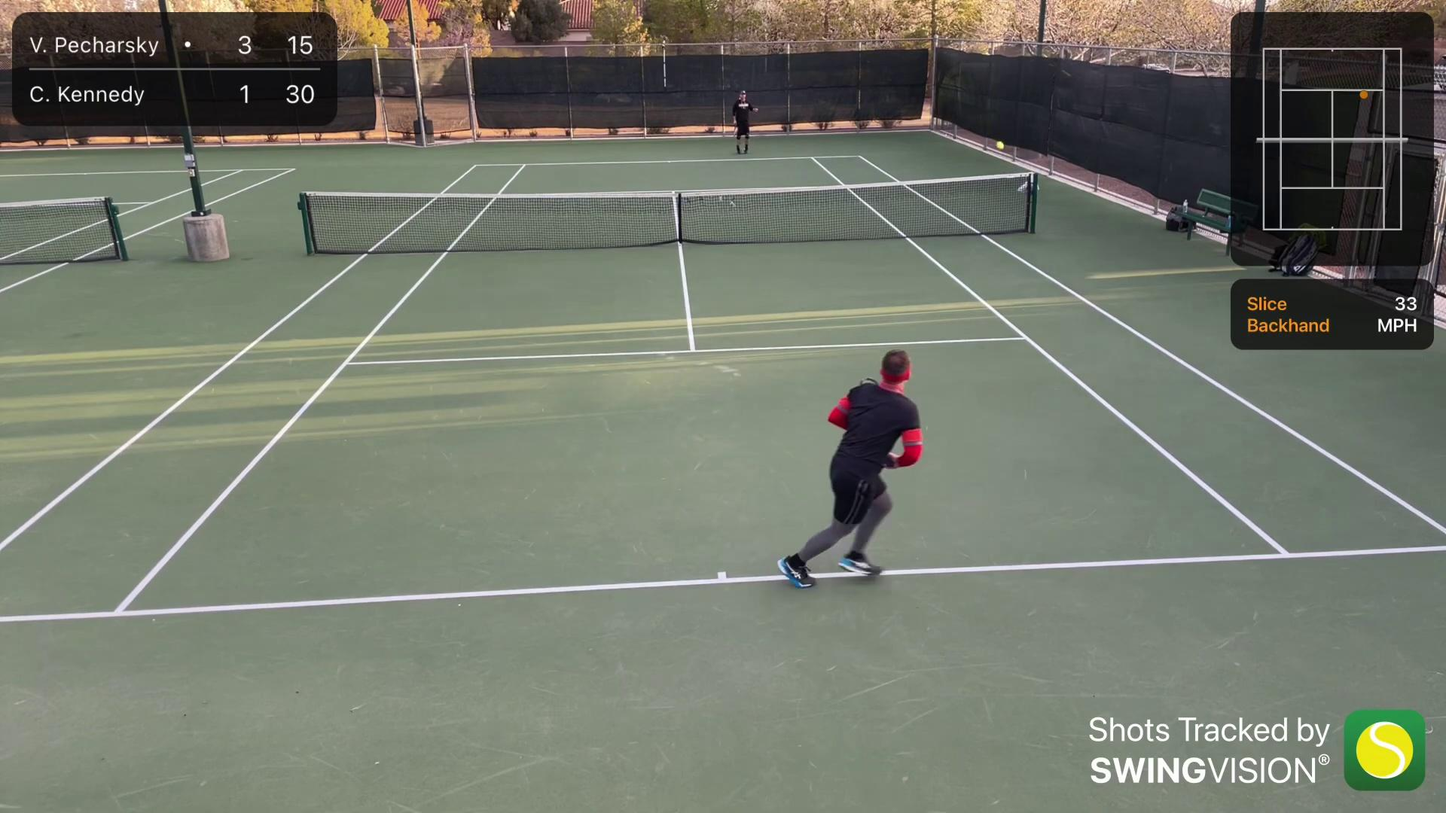ball: (995, 140, 1005, 150)
